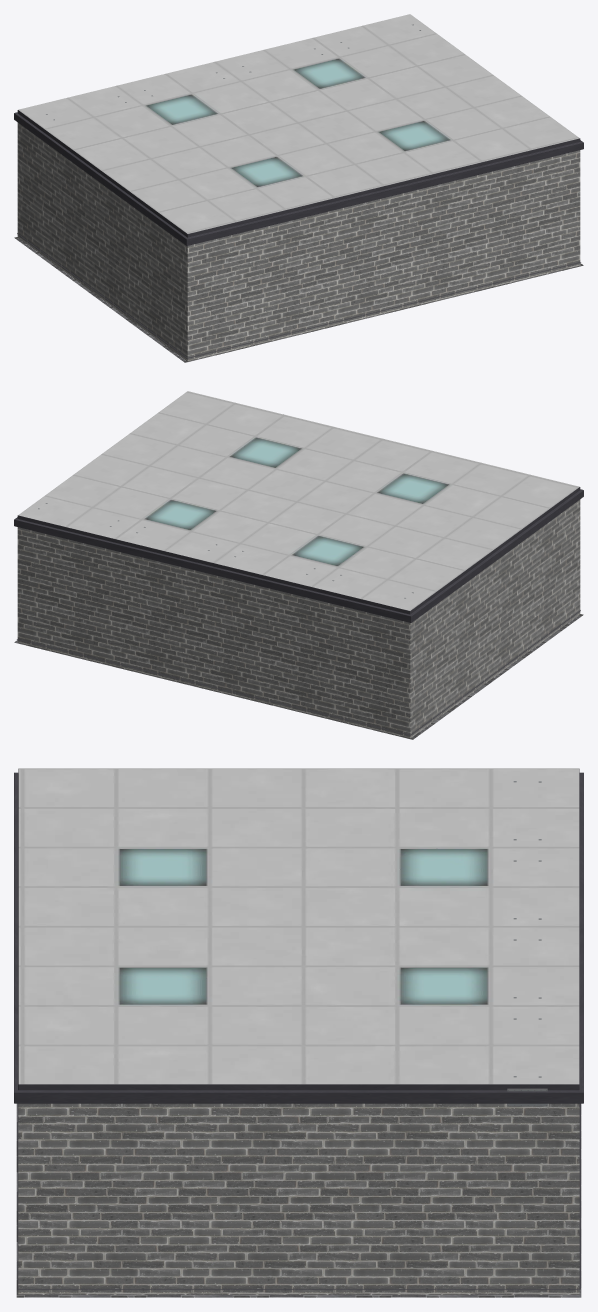
Rendered from room.gltf.
3 views of the same model, one above another, from view 1: azimuth 30°, elevation 25°; view 2: azimuth 150°, elevation 25°; view 3: azimuth 270°, elevation 25° (orthographic). The views are drawn at different scales.
Visible parts, largest first — view 1: room; view 2: room; view 3: room.
Boxes of the visible parts, bbox=[...] form: room: bbox=[14, 14, 583, 362]; room: bbox=[14, 391, 583, 739]; room: bbox=[14, 768, 583, 1297].
Size of what is drawn, in the model's own units: 12.2 by 3.73 by 9.14.
8 materials, 8 textured.
